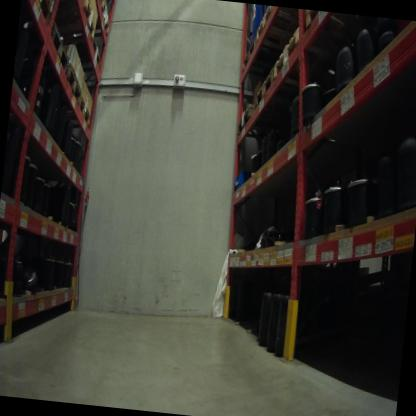pallet: (256, 65, 352, 120), (272, 23, 353, 84), (17, 16, 75, 74), (30, 57, 86, 104), (234, 101, 291, 144), (238, 37, 289, 84), (36, 93, 99, 131), (49, 0, 100, 38), (251, 7, 300, 46), (299, 12, 358, 44), (20, 0, 58, 22), (88, 2, 110, 35), (89, 0, 111, 5)
